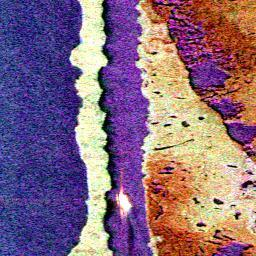Ship: (118, 187, 132, 217)
